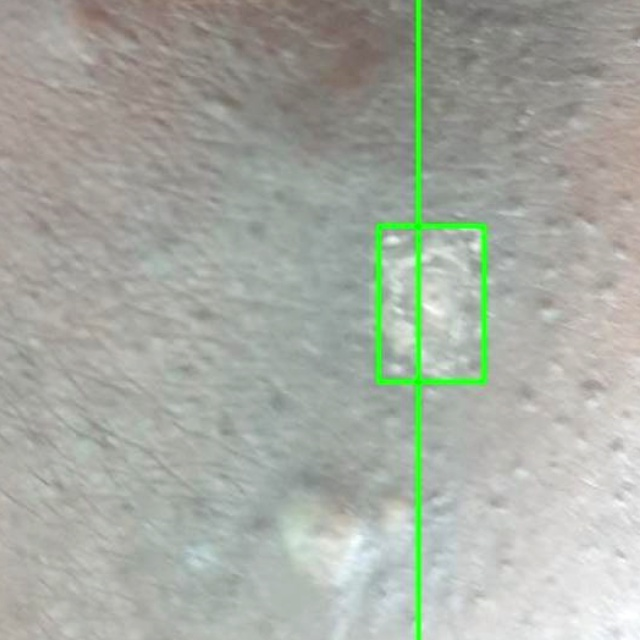Seborrheic Dermatitis: (418, 0, 639, 639), (379, 226, 484, 382)
